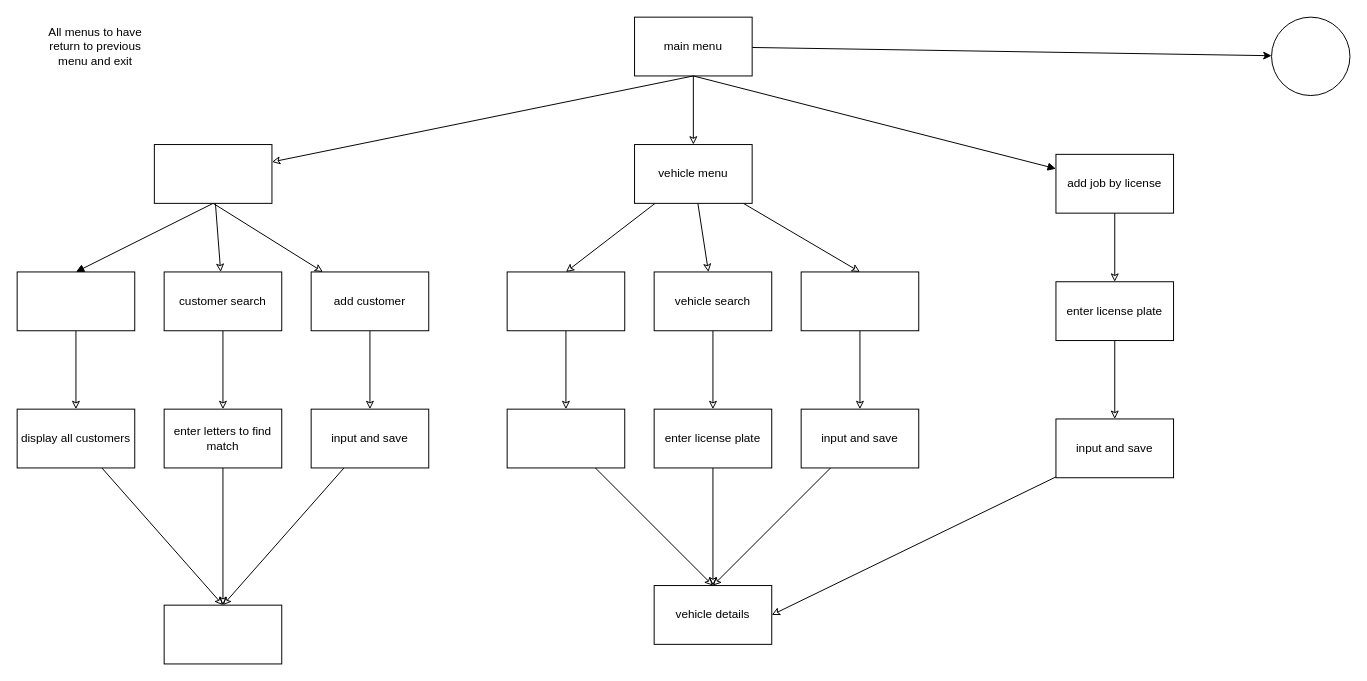
Some shapes in this 1367 by 681 pixel diagram are drawn without their labels. Here are the shapes that lost their labels. From the top down, the centre of each, then its label:
At pixel 1310 56: "exit".
At pixel 212 173: "customer menu".
At pixel 75 301: "customer list".
At pixel 565 301: "vehicle list".
At pixel 859 301: "add vehicle".
At pixel 565 438: "display all vehicles".
At pixel 222 634: "customer details".
